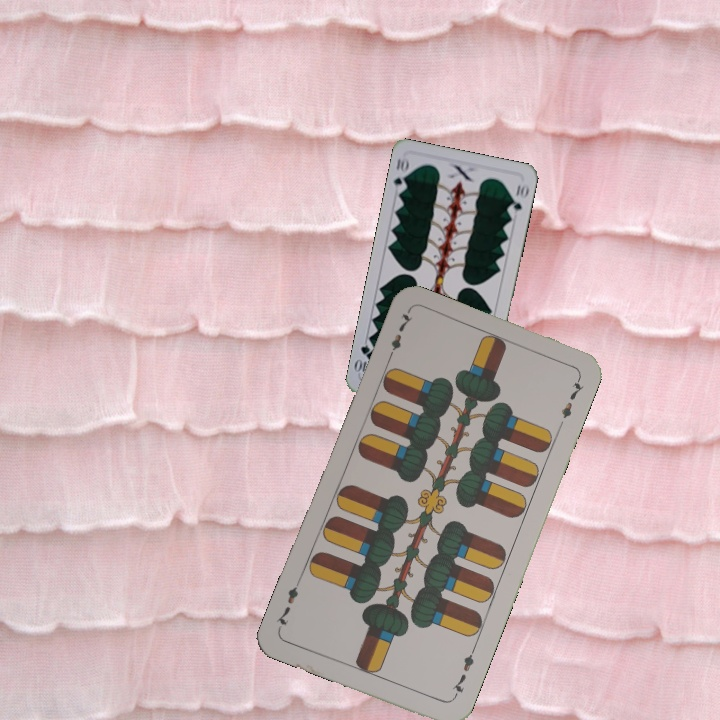E7: (383, 308, 415, 364), (448, 645, 478, 701)
G10: (390, 153, 412, 195)
